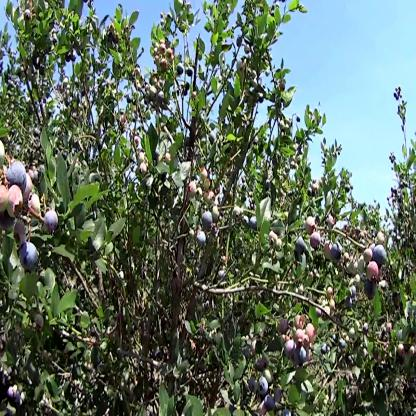intermediate: (10, 180, 21, 219), (30, 188, 39, 221), (293, 313, 306, 331), (306, 217, 317, 234), (368, 264, 379, 279), (312, 234, 322, 249), (307, 324, 315, 341), (168, 46, 175, 64), (297, 330, 306, 343), (188, 183, 197, 195), (159, 46, 168, 57), (161, 56, 167, 71)
mature: (21, 243, 38, 266), (45, 209, 61, 233), (10, 163, 26, 186), (375, 244, 386, 266), (201, 211, 213, 231), (365, 278, 375, 301), (297, 346, 308, 366), (196, 232, 208, 250), (295, 237, 306, 256), (332, 244, 342, 262), (266, 396, 279, 409), (286, 342, 295, 360), (250, 215, 259, 233), (260, 376, 268, 396), (350, 281, 357, 298), (250, 377, 257, 393), (243, 211, 249, 229), (188, 64, 195, 78), (177, 64, 184, 75), (160, 89, 165, 101)
young: (348, 323, 357, 341), (266, 366, 274, 385), (326, 282, 334, 300), (233, 205, 242, 220), (377, 231, 386, 244), (365, 248, 373, 262), (202, 167, 209, 178), (209, 193, 215, 205)
